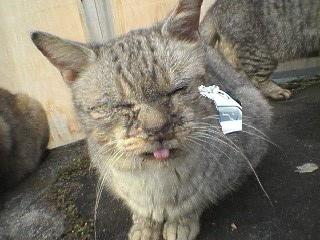tampered: (198, 86, 242, 134)
